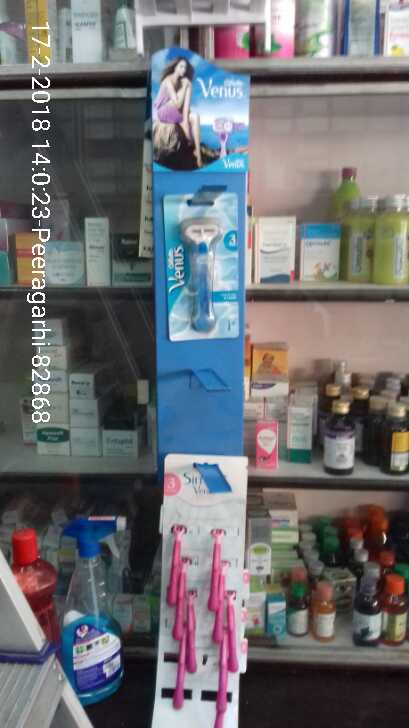venus: (166, 192, 238, 344)
